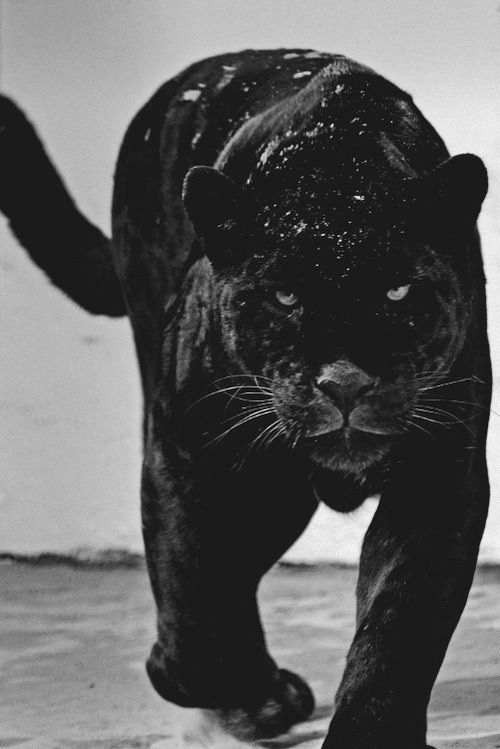panther: (142, 131, 500, 504)
